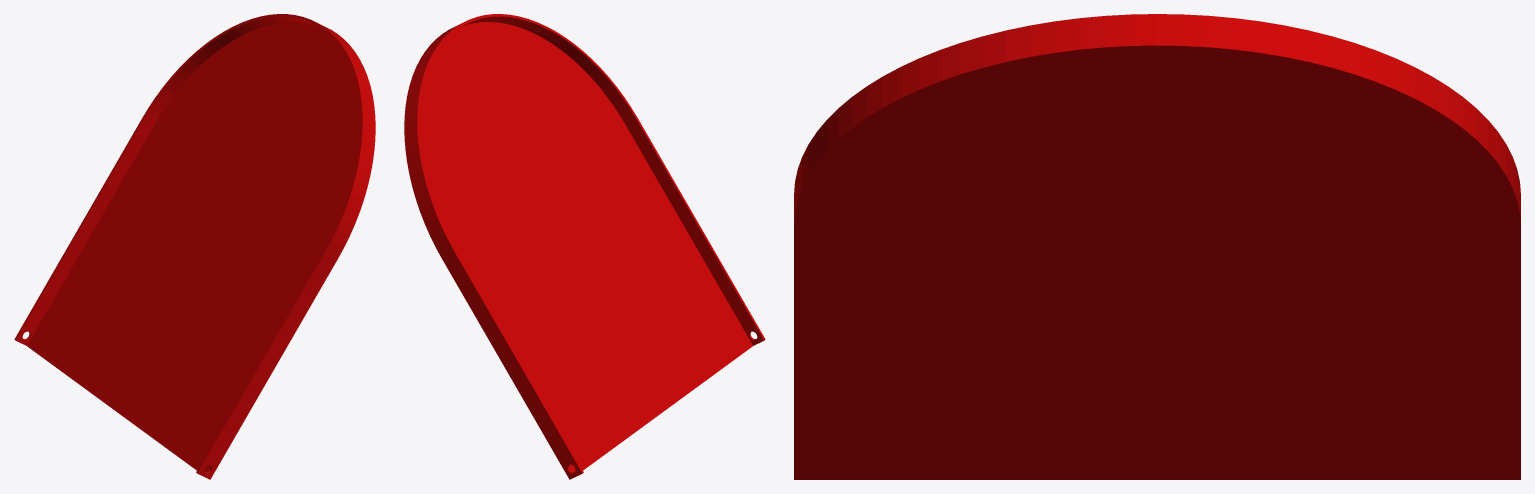
Rendered from mailboxlid.obj.
3 views of the same model, side by side, from view 1: azimuth 30°, elevation 25°; view 2: azimuth 150°, elevation 25°; view 3: azimuth 270°, elevation 25° (orthographic). The views are drawn at different scales.
Visible parts, largest first — view 1: Mailboxlid_Mailboxlid.001; view 2: Mailboxlid_Mailboxlid.001; view 3: Mailboxlid_Mailboxlid.001.
Part boxes in pixels (<box>): Mailboxlid_Mailboxlid.001: <box>14,14,375,479</box>; Mailboxlid_Mailboxlid.001: <box>404,14,765,479</box>; Mailboxlid_Mailboxlid.001: <box>794,14,1520,479</box>.
Size of the model in its own units: 0.3657 by 0.505 by 0.4999.
